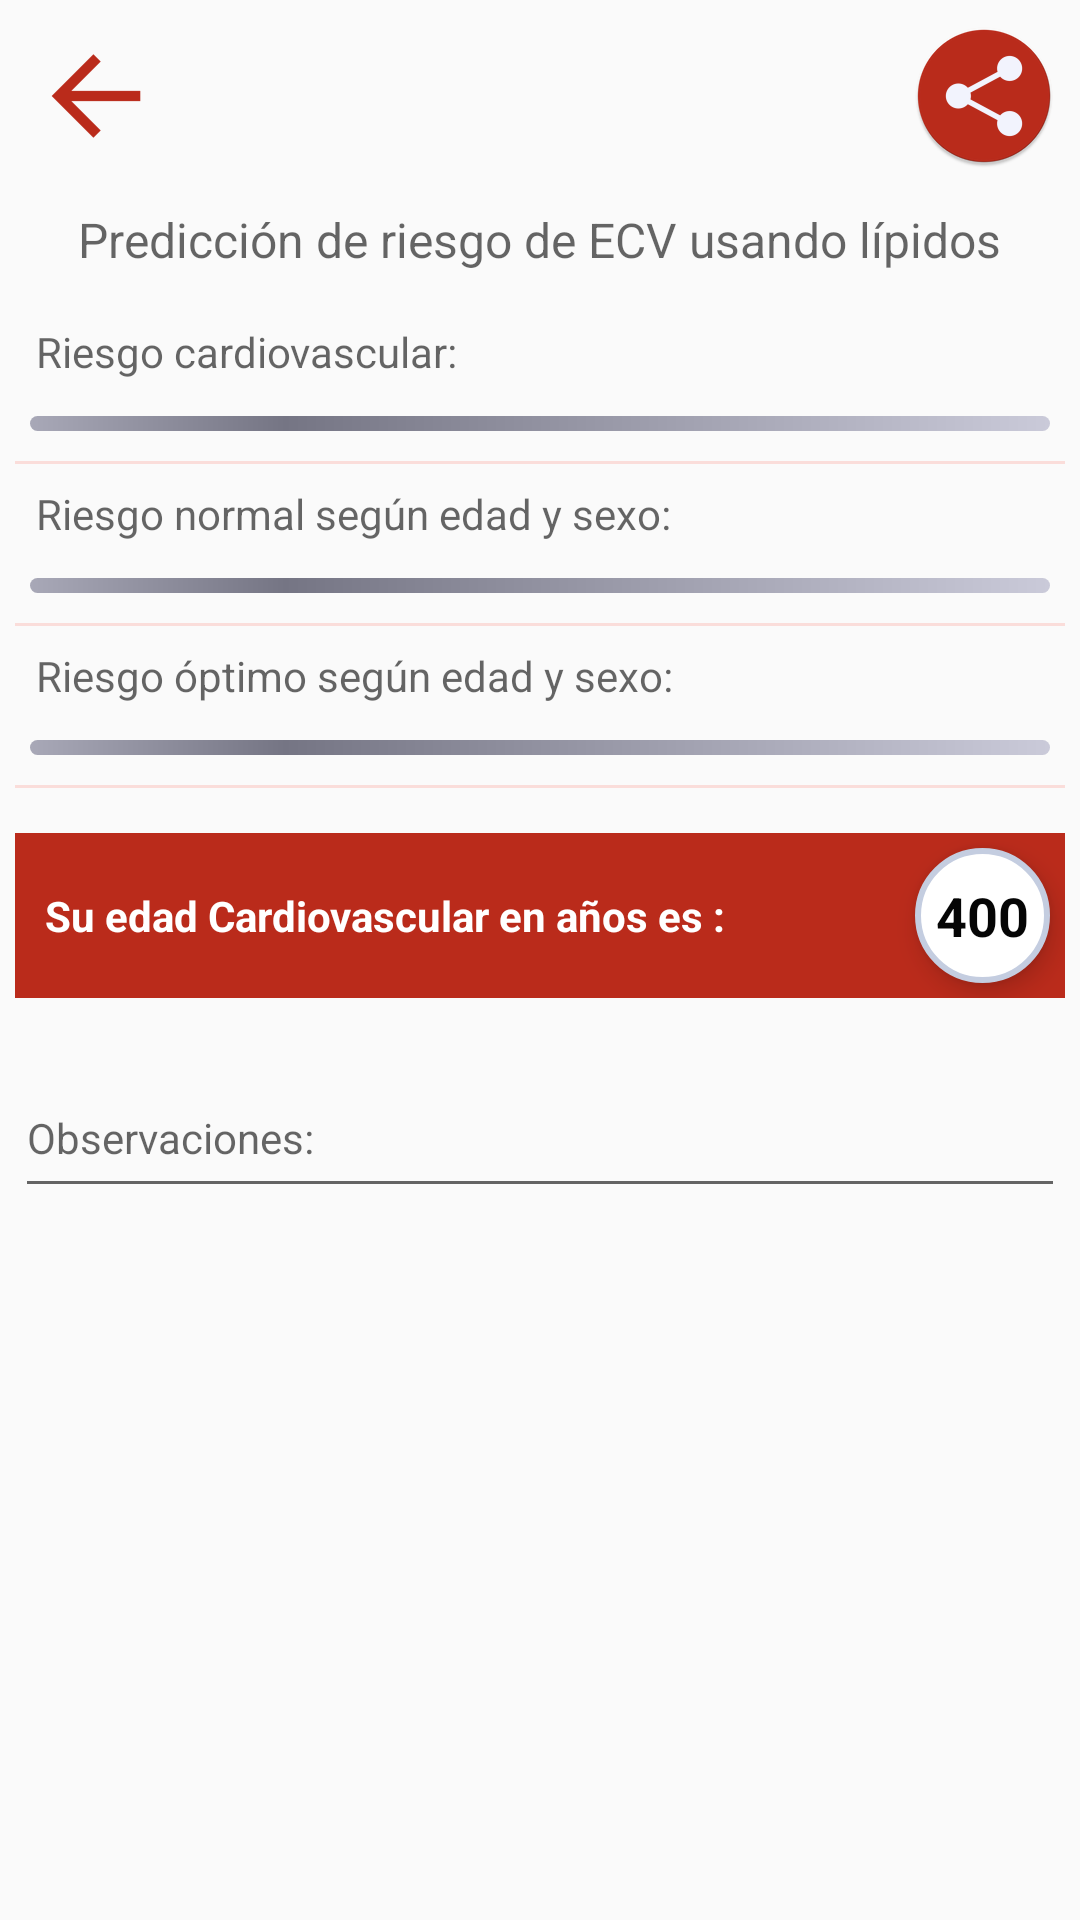

Where icons sit on this 1080 x 1920 app screen, as detection(x1, y1, x2, y2):
previous: detection(52, 54, 141, 138)
share: detection(917, 29, 1051, 165)
